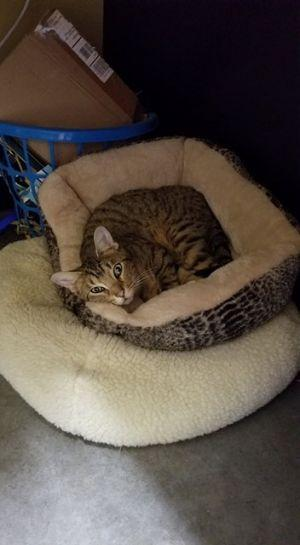bengal: (48, 220, 150, 328)
